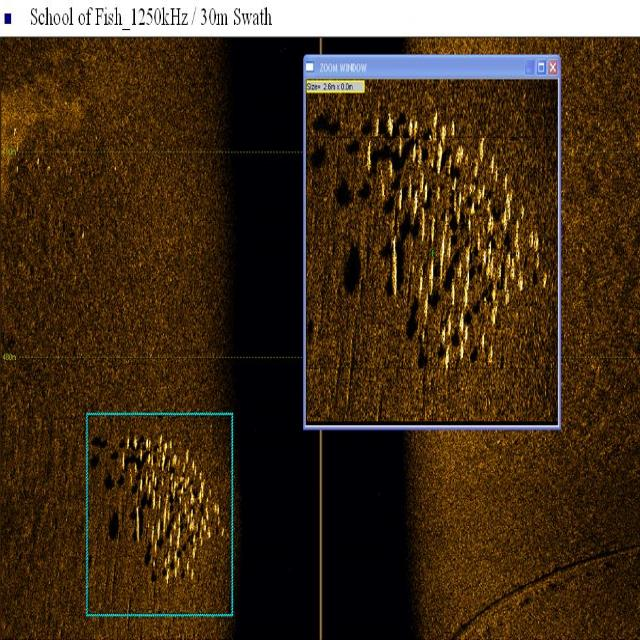fish: (388, 234, 399, 300), (441, 324, 452, 371), (451, 177, 462, 222), (132, 502, 142, 548), (482, 242, 493, 277), (158, 435, 169, 470), (198, 514, 210, 546), (502, 182, 510, 229), (485, 198, 496, 232), (513, 216, 521, 260), (146, 478, 156, 512), (426, 252, 434, 294), (490, 285, 498, 326), (418, 204, 426, 244), (428, 214, 438, 246), (178, 462, 188, 494), (439, 230, 445, 282), (383, 110, 395, 135), (144, 436, 154, 464), (407, 115, 419, 138), (371, 113, 382, 137), (162, 493, 169, 530), (448, 275, 456, 307), (462, 240, 471, 268), (198, 469, 205, 503), (477, 133, 485, 162), (406, 171, 413, 204), (418, 256, 423, 301), (396, 182, 404, 210), (457, 305, 465, 333), (411, 190, 418, 221), (434, 143, 441, 174), (365, 135, 371, 171), (118, 447, 126, 472), (438, 122, 445, 150), (386, 158, 394, 182), (173, 553, 180, 579), (187, 505, 193, 534)
